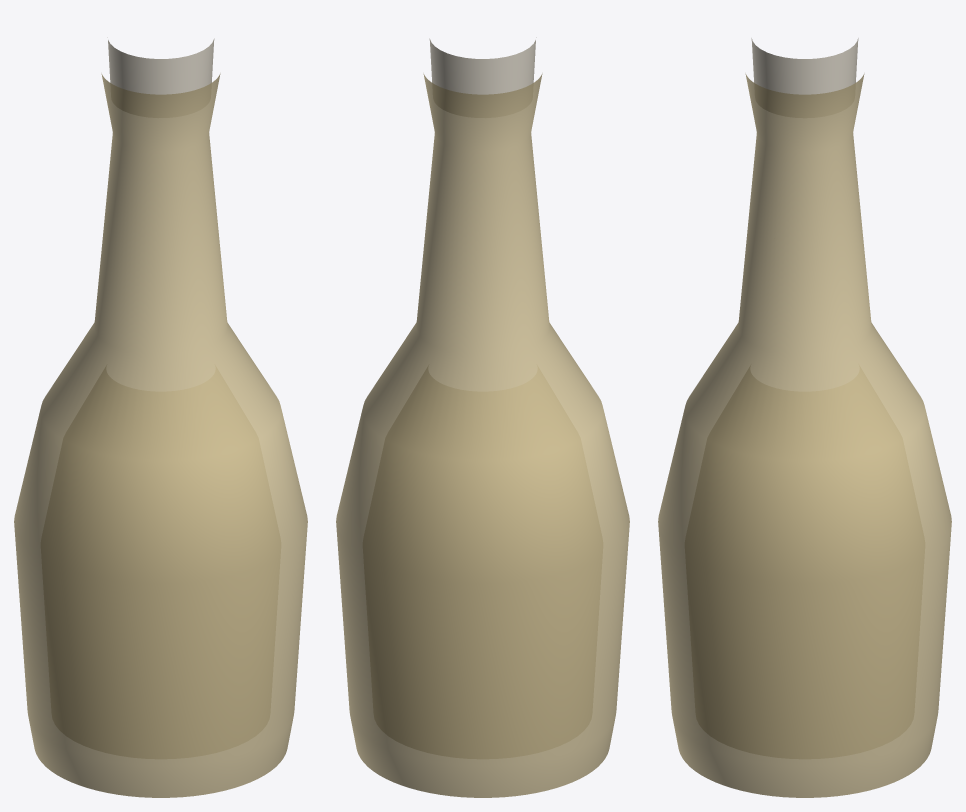
File: patron-anejo.glb
3 views of the same model, side by side, from view 1: azimuth 30°, elevation 25°; view 2: azimuth 150°, elevation 25°; view 3: azimuth 270°, elevation 25° (orthographic).
Parts seen in each view (by area): view 1: body, cap; view 2: body, cap; view 3: body, cap.
Part boxes in pixels (box(x1,y1,x2,y2)): body: box(14, 73, 307, 797); cap: box(107, 37, 214, 94); body: box(336, 73, 629, 797); cap: box(429, 37, 536, 94); body: box(658, 73, 951, 797); cap: box(751, 38, 858, 94).
Size of the model in its own units: 0.44 by 1.17 by 0.44.
